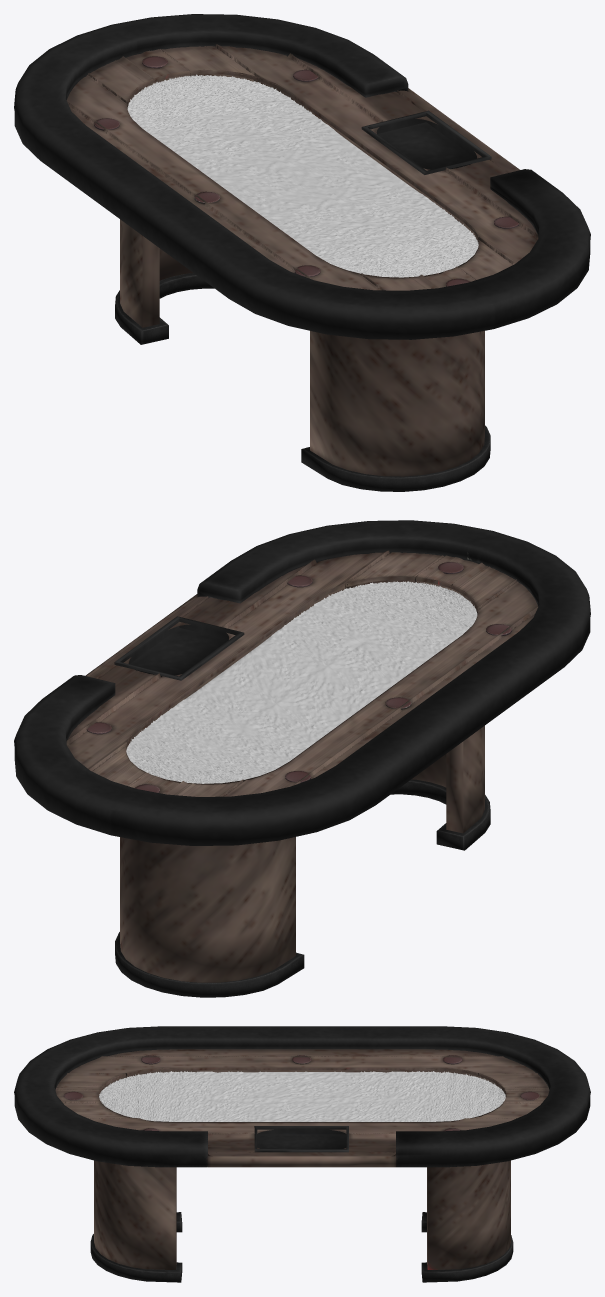
File: tableforpoker.fbx
3 renders of one model, top to bottom at view 1: azimuth 30°, elevation 25°; view 2: azimuth 150°, elevation 25°; view 3: azimuth 270°, elevation 25°, orthographic. The views are drawn at different scales.
Parts seen in each view (by area): view 1: tabletop_low_Mesh.010, tabletop_low_Mesh.012, tabletop_low_Mesh.007, tabletop_low_Mesh.029, tabletop_low_Mesh.003, tabletop_low_Mesh.011, tabletop_low_Mesh.043, tabletop_low_Mesh.004, tabletop_low_Mesh.018, tabletop_low_Mesh.027, tabletop_low_Mesh.032, tabletop_low_Mesh.002 (+7 smaller); view 2: tabletop_low_Mesh.010, tabletop_low_Mesh.012, tabletop_low_Mesh.007, tabletop_low_Mesh.027, tabletop_low_Mesh.003, tabletop_low_Mesh.014, tabletop_low_Mesh.037, tabletop_low_Mesh.001, tabletop_low_Mesh.018, tabletop_low_Mesh.029, tabletop_low_Mesh.002, tabletop_low_Mesh.031 (+7 smaller); view 3: tabletop_low_Mesh.010, tabletop_low_Mesh.012, tabletop_low_Mesh.007, tabletop_low_Mesh.027, tabletop_low_Mesh.029, tabletop_low_Mesh.013, tabletop_low_Mesh.001, tabletop_low_Mesh.004, tabletop_low_Mesh.006, tabletop_low_Mesh.002, tabletop_low_Mesh.015, tabletop_low_Mesh.018 (+7 smaller).
Boxes of the visible parts, box(x1,y1,x2,y2) form: tabletop_low_Mesh.010: box(127, 74, 478, 277); tabletop_low_Mesh.012: box(16, 14, 588, 314); tabletop_low_Mesh.007: box(66, 44, 538, 290); tabletop_low_Mesh.029: box(310, 331, 484, 476); tabletop_low_Mesh.003: box(14, 84, 494, 339); tabletop_low_Mesh.011: box(137, 33, 365, 97); tabletop_low_Mesh.043: box(301, 438, 490, 491); tabletop_low_Mesh.004: box(493, 228, 590, 328); tabletop_low_Mesh.018: box(377, 122, 475, 169); tabletop_low_Mesh.027: box(120, 104, 142, 327); tabletop_low_Mesh.032: box(142, 236, 159, 327); tabletop_low_Mesh.002: box(66, 45, 537, 241); tabletop_low_Mesh.010: box(126, 581, 477, 783); tabletop_low_Mesh.012: box(16, 520, 588, 820); tabletop_low_Mesh.007: box(66, 550, 537, 796); tabletop_low_Mesh.027: box(120, 837, 295, 982); tabletop_low_Mesh.003: box(110, 590, 590, 845); tabletop_low_Mesh.014: box(240, 539, 467, 603); tabletop_low_Mesh.037: box(115, 942, 304, 997); tabletop_low_Mesh.001: box(14, 734, 111, 835); tabletop_low_Mesh.018: box(130, 628, 228, 675); tabletop_low_Mesh.029: box(463, 610, 484, 832); tabletop_low_Mesh.002: box(67, 551, 538, 748); tabletop_low_Mesh.031: box(446, 741, 463, 833); tabletop_low_Mesh.010: box(99, 1071, 505, 1121); tabletop_low_Mesh.012: box(16, 1026, 588, 1147); tabletop_low_Mesh.007: box(55, 1049, 549, 1156); tabletop_low_Mesh.027: box(427, 1095, 510, 1269); tabletop_low_Mesh.029: box(94, 1095, 175, 1269); tabletop_low_Mesh.013: box(54, 1039, 550, 1089); tabletop_low_Mesh.001: box(396, 1088, 590, 1167); tabletop_low_Mesh.004: box(14, 1088, 207, 1167); tabletop_low_Mesh.006: box(208, 1156, 395, 1167); tabletop_low_Mesh.002: box(55, 1048, 549, 1094); tabletop_low_Mesh.015: box(98, 1067, 506, 1095); tabletop_low_Mesh.018: box(257, 1134, 346, 1148).
Size of the model in its own units: 220 by 138 by 434.
